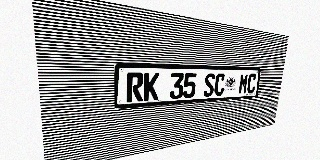3: (170, 73, 184, 99)
5: (183, 73, 197, 98)
C: (214, 73, 226, 96), (246, 74, 257, 94)
K: (143, 73, 160, 101)
M: (238, 73, 249, 94)
R: (126, 72, 144, 102)
S: (203, 73, 216, 97)
